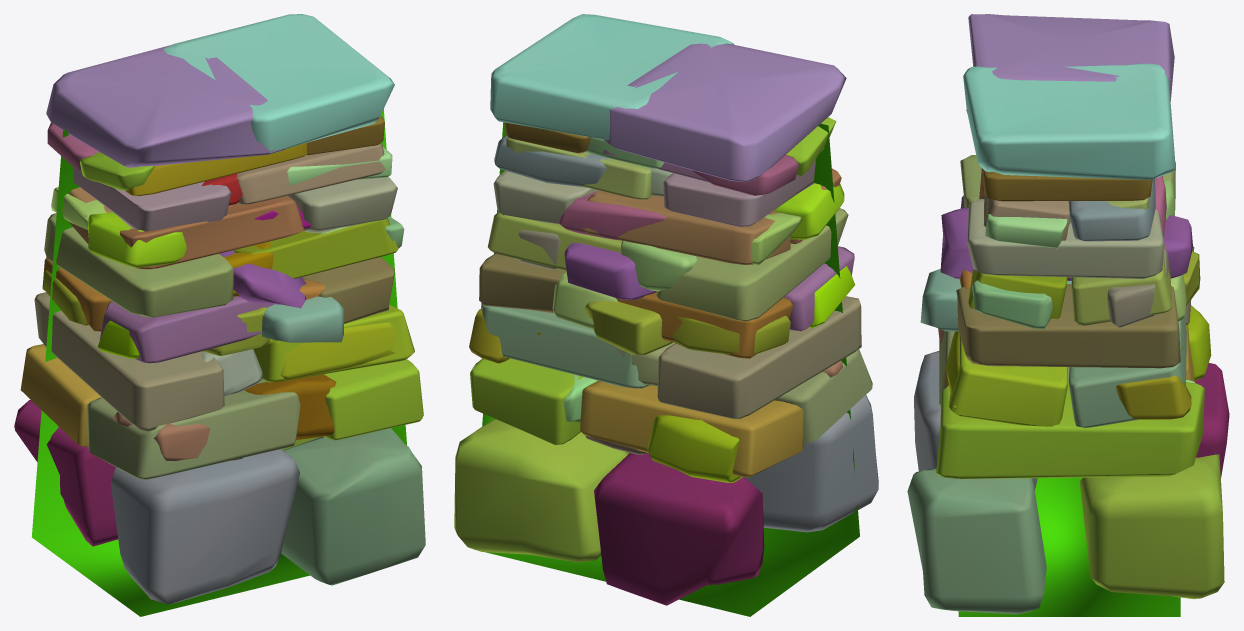
Rendered from SM_WallPier.glb.
The picture shows the model from 3 angles, left to right: view 1: azimuth 30°, elevation 25°; view 2: azimuth 150°, elevation 25°; view 3: azimuth 270°, elevation 25°; orthographic projection. The views are drawn at different scales.
Visible parts, largest first — view 1: SM_WallPier; view 2: SM_WallPier; view 3: SM_WallPier.
Boxes of the visible parts, <box> form: SM_WallPier: <box>14,14,425,616</box>; SM_WallPier: <box>454,14,878,616</box>; SM_WallPier: <box>907,14,1229,616</box>.
Size of the model in its own units: 1.02 by 1.6 by 0.9579.
